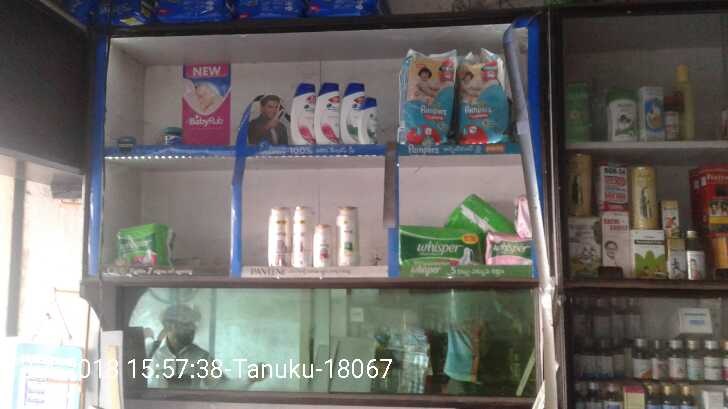vicks: (154, 128, 182, 147)
